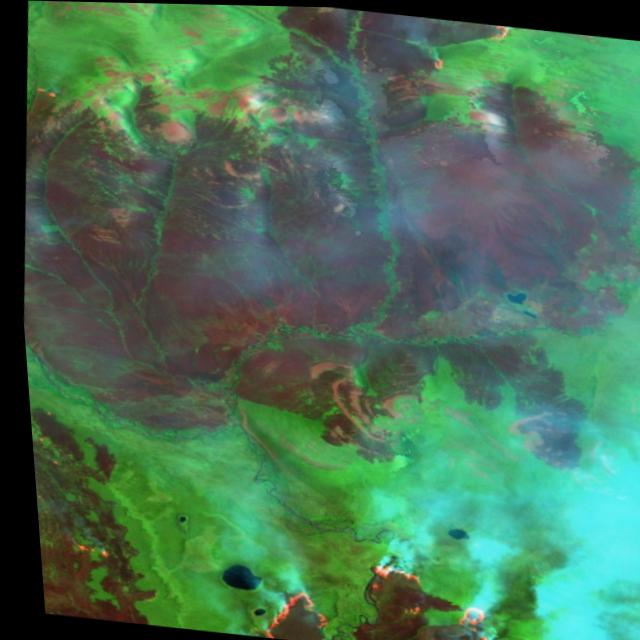fire: (224, 540, 498, 640), (421, 15, 519, 77)
